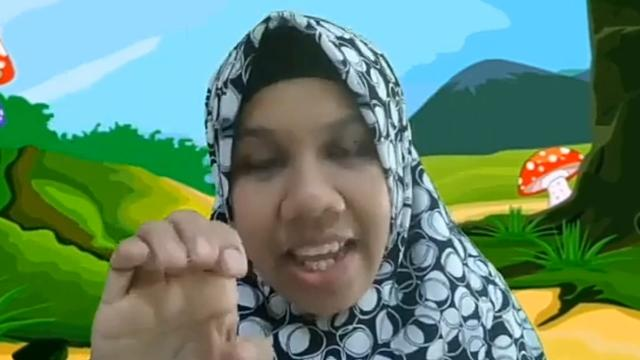E: (86, 206, 274, 360)
